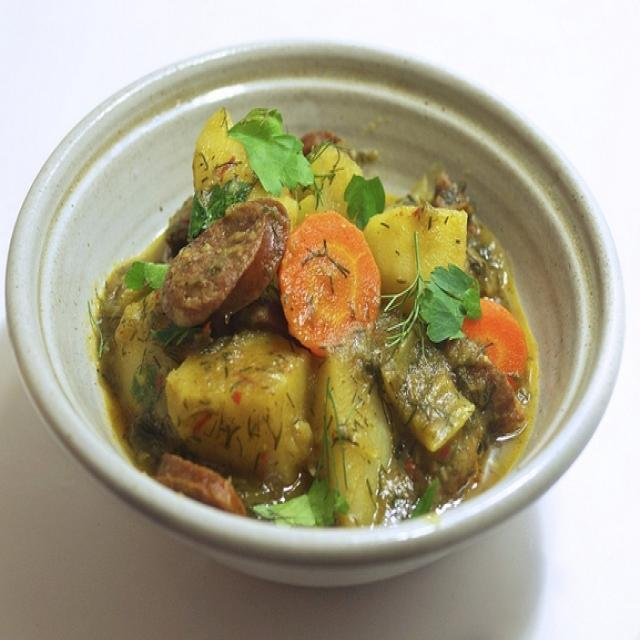汤锅炖物: (93, 110, 539, 530)
